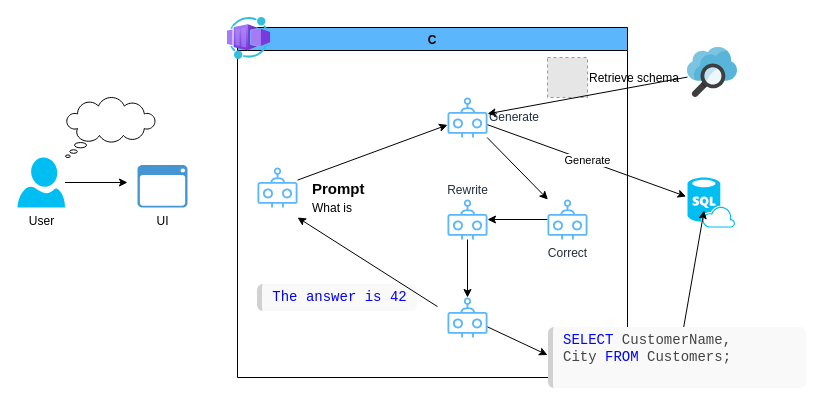
The diagram is 824 pixels wide and 414 high, and some of its shapes have lost their labels. Grey dashed boxes stand in for pictures. Each missing label, with the centre of its shape:
"AI Search" belongs at point (712, 72).
"Execute" belongs at point (467, 317).
"Question" belongs at point (110, 127).
